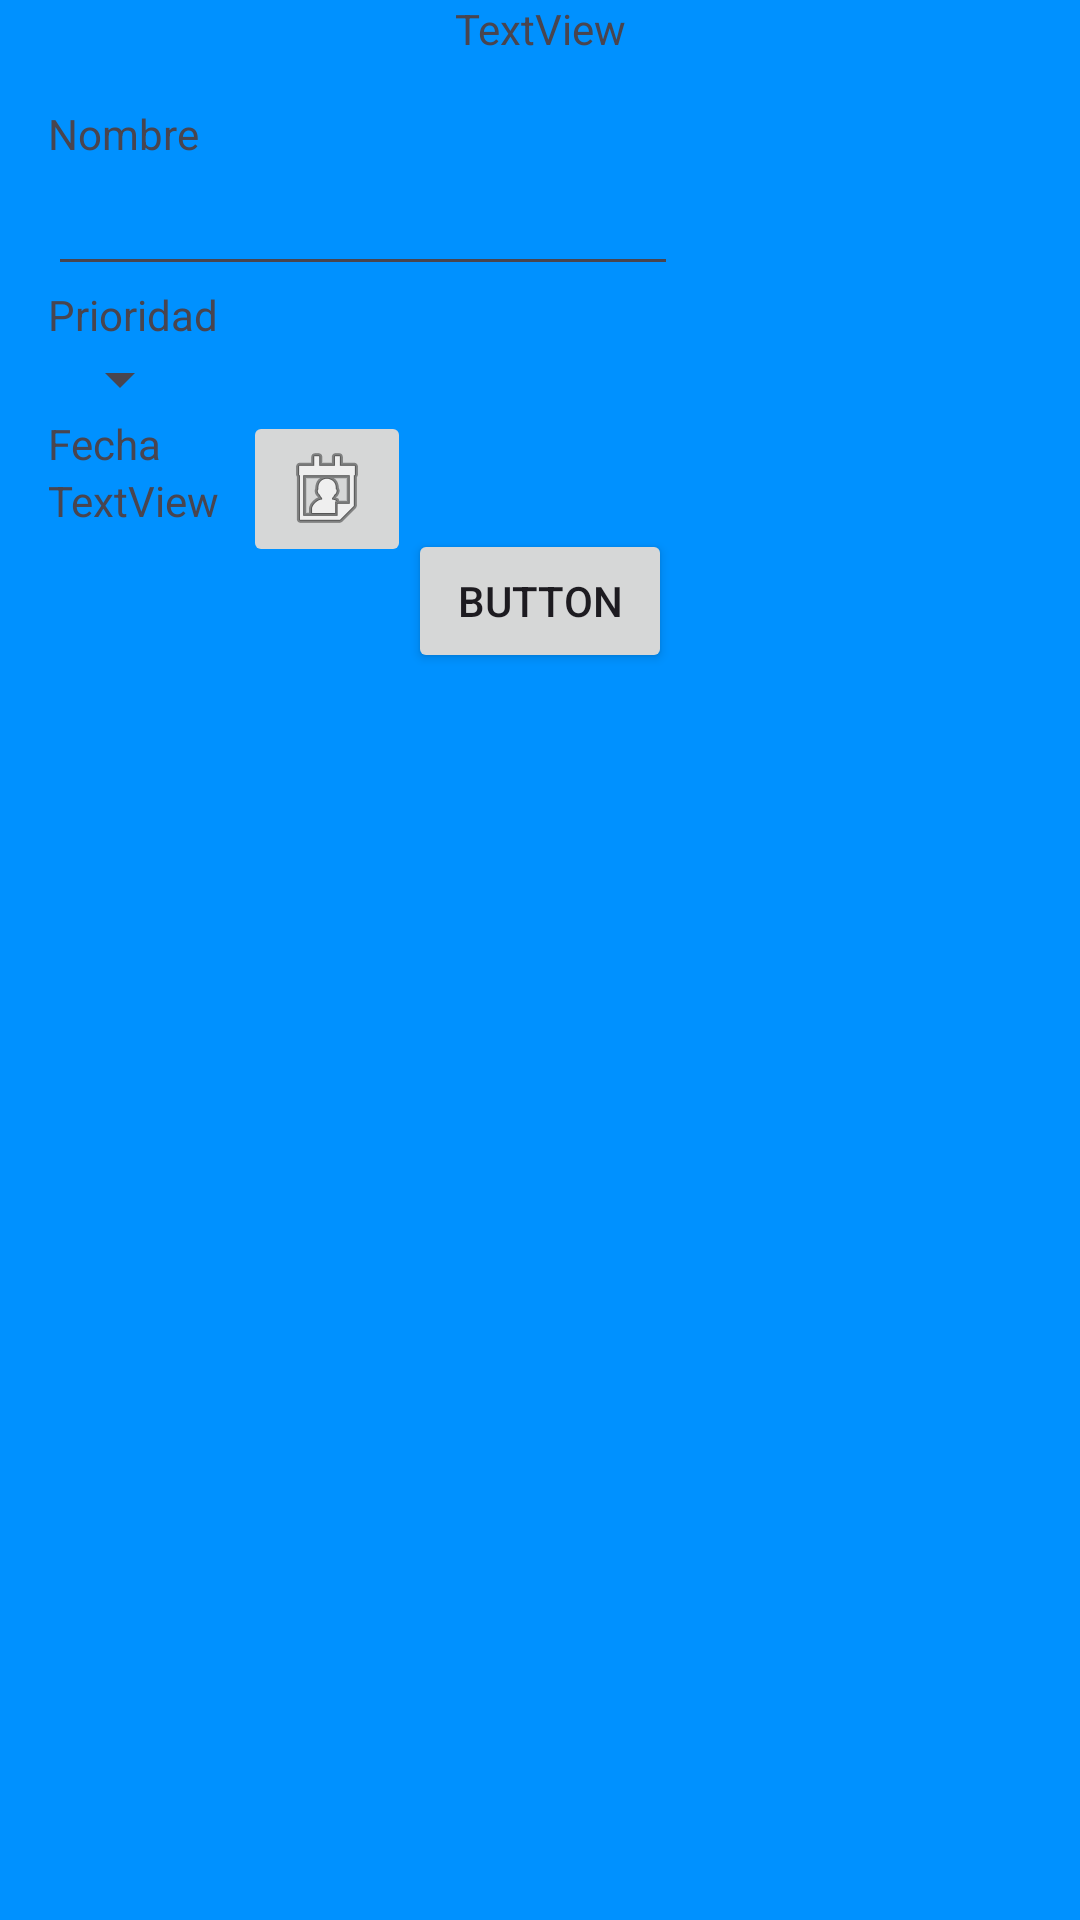

Screen size 1080 x 1920. Icon name, then its center in pixels as [x,y]:
calendar: [327,489]
